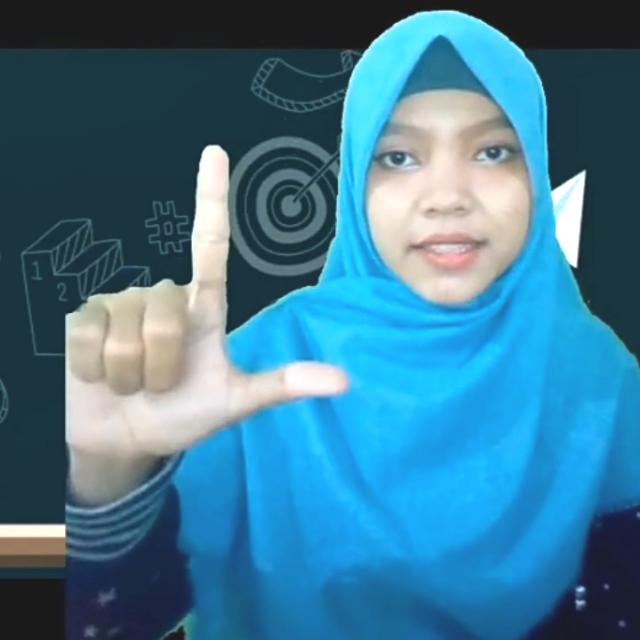L: (56, 141, 356, 479)
